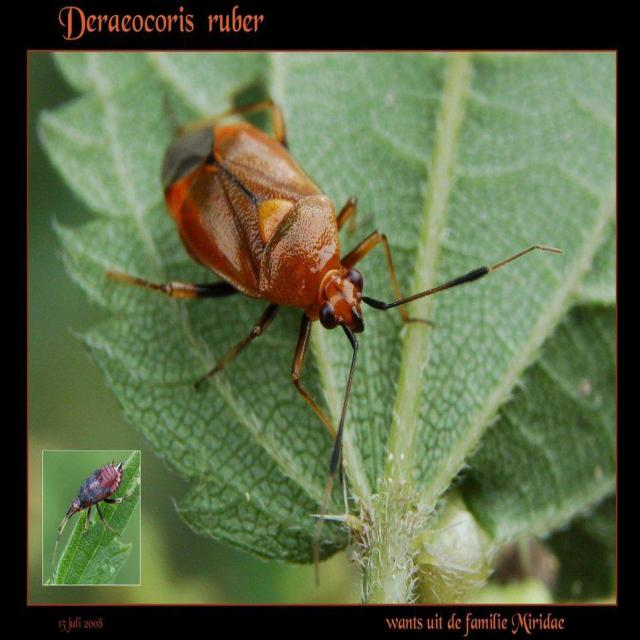Miridae-Adult-: (132, 89, 506, 416)
